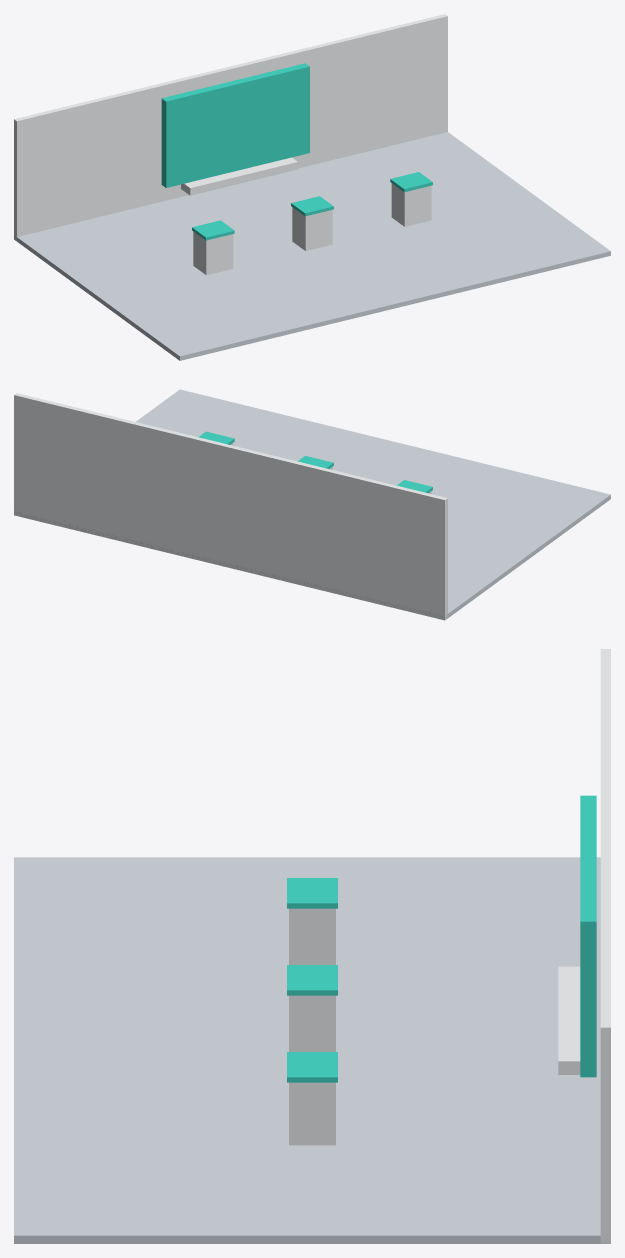
The picture shows the model from 3 angles, top to bottom: view 1: azimuth 30°, elevation 25°; view 2: azimuth 150°, elevation 25°; view 3: azimuth 270°, elevation 25°; orthographic projection. The views are drawn at different scales.
Visible parts, largest first — view 1: Exhibition Booth Concept; view 2: Exhibition Booth Concept; view 3: Exhibition Booth Concept.
Part boxes in pixels (x1,y1,x2,y2): Exhibition Booth Concept: (14,14,610,360); Exhibition Booth Concept: (14,389,610,620); Exhibition Booth Concept: (14,649,610,1243).
Bounding box in the file's own units: 12 × 3.2 × 8.
